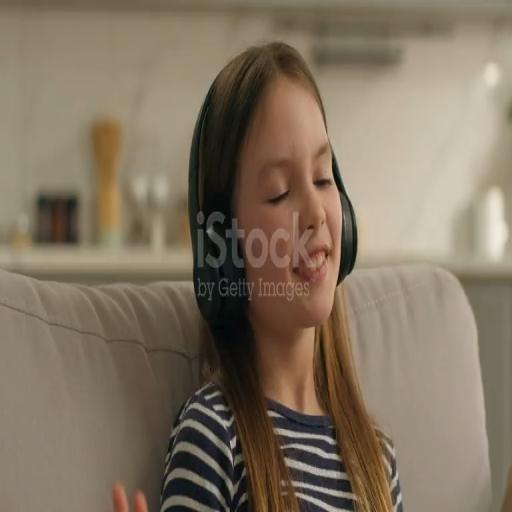earphone: (167, 37, 374, 321)
